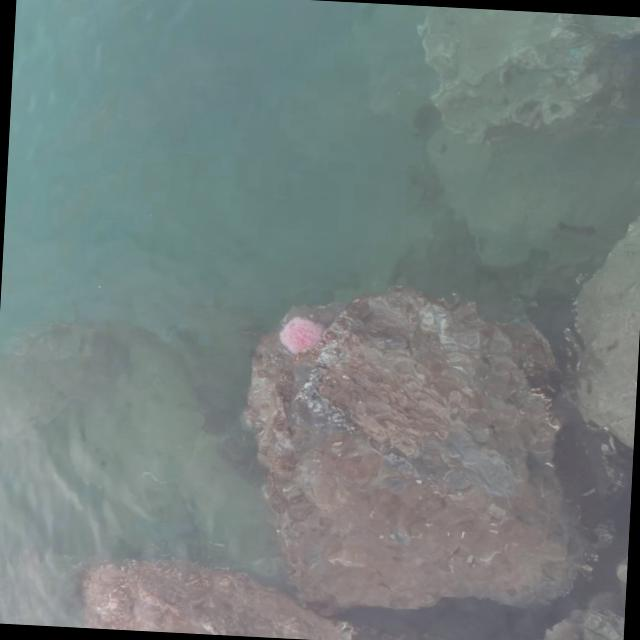Deniz Kestanesi: (278, 315, 326, 353)
